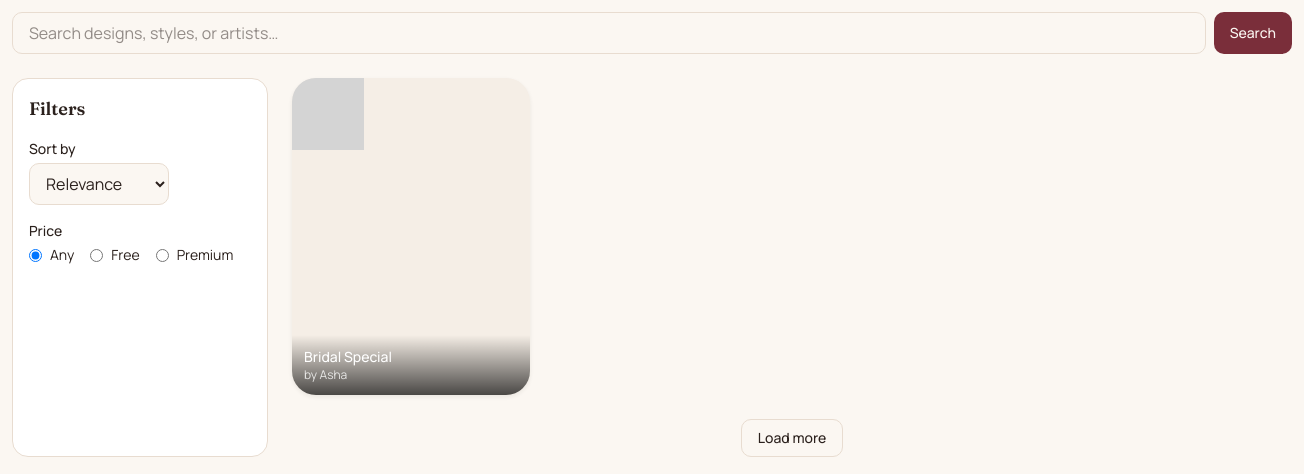
Test: SearchView › shows a load-more button and appends the next page
The image size is (1304, 474).
Expected: the text "Bridal Special" is shown, [304,347,392,366]
Click the button "Load more".
click(792, 438)  # box [741,419,843,457]
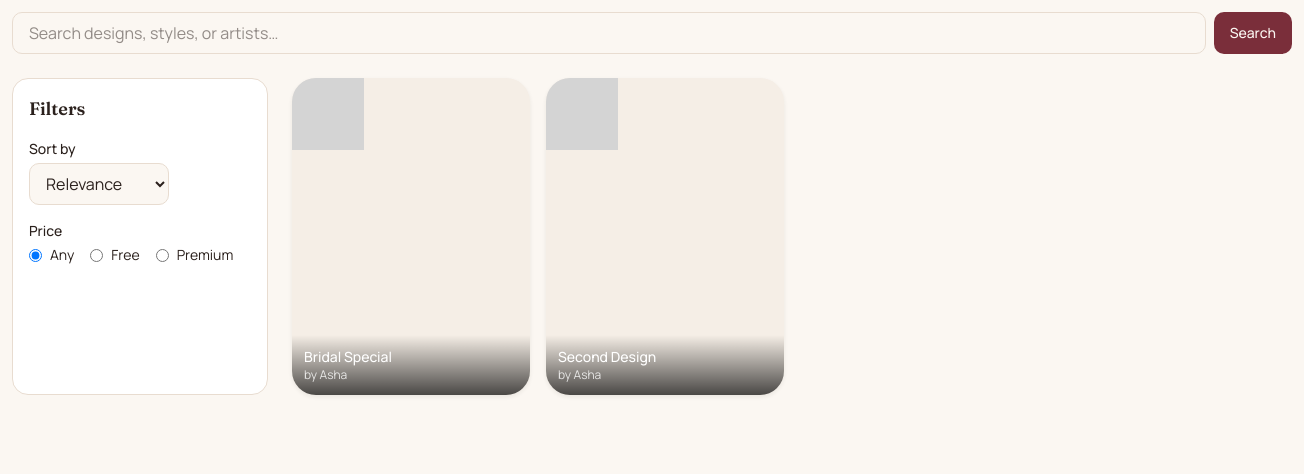
Expected: the text "Bridal Special" is shown, [304,347,392,366]
Now the text "Second Design" is shown, box [558,347,656,366]
